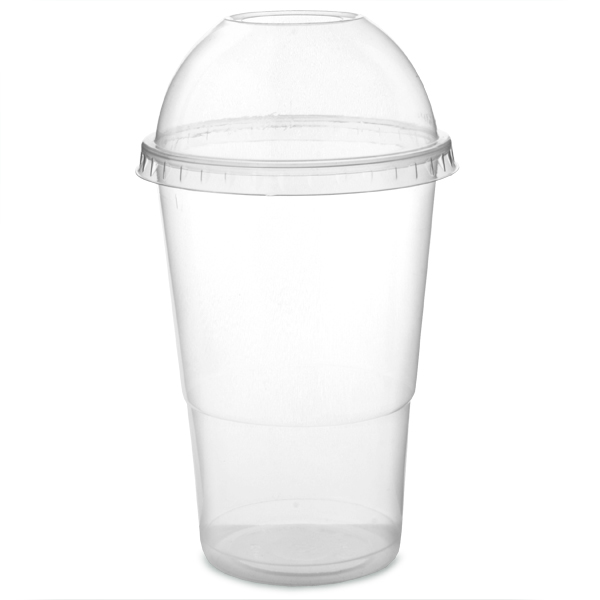plastic_glass: (132, 6, 463, 592)
